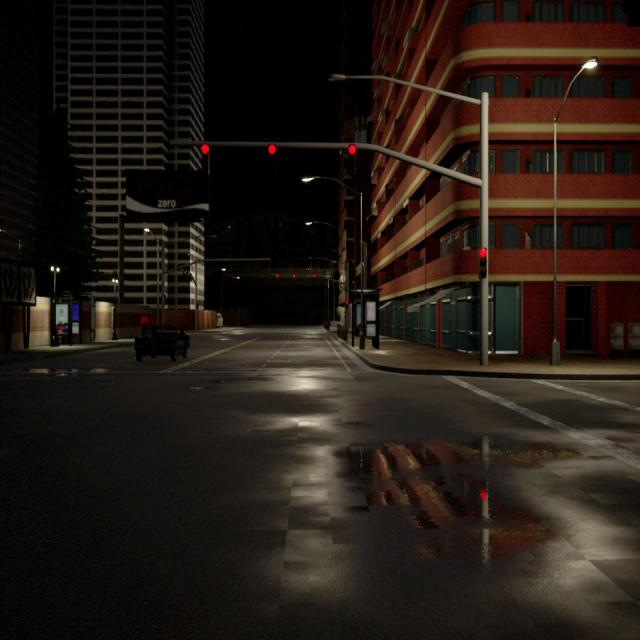Pedestrian: (139, 312, 150, 333)
Vehicle: (135, 325, 189, 361), (215, 312, 223, 328)
traffic_light: (478, 247, 487, 279), (267, 143, 276, 168), (348, 144, 356, 172), (200, 144, 208, 170), (345, 300, 348, 309), (312, 274, 316, 278), (292, 274, 296, 278), (275, 274, 279, 278)
